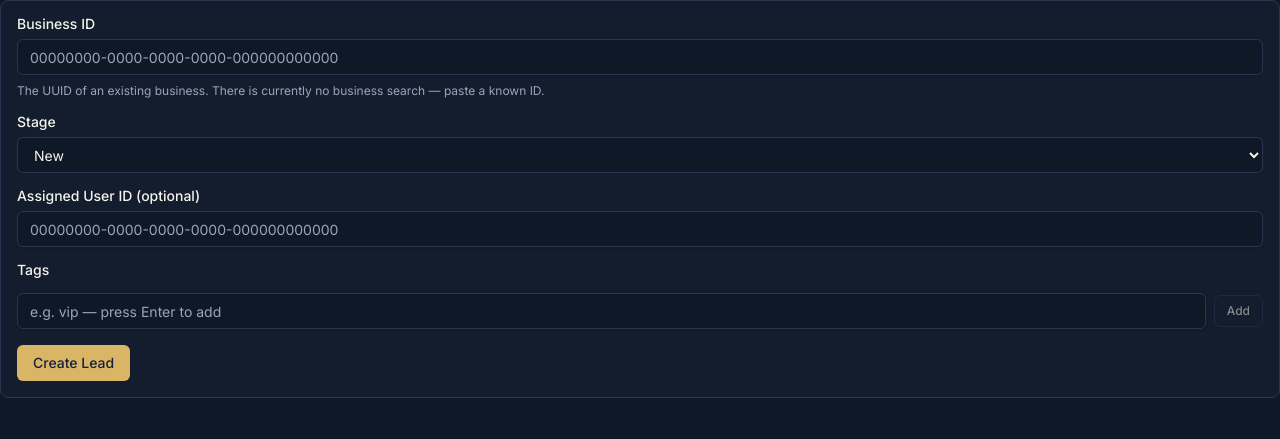
Test case: CreateLeadForm › rejects a non-UUID Business ID
Type "not-a-uuid" into the field labelled "Business ID" at (640, 57), box [17,39,1263,75]
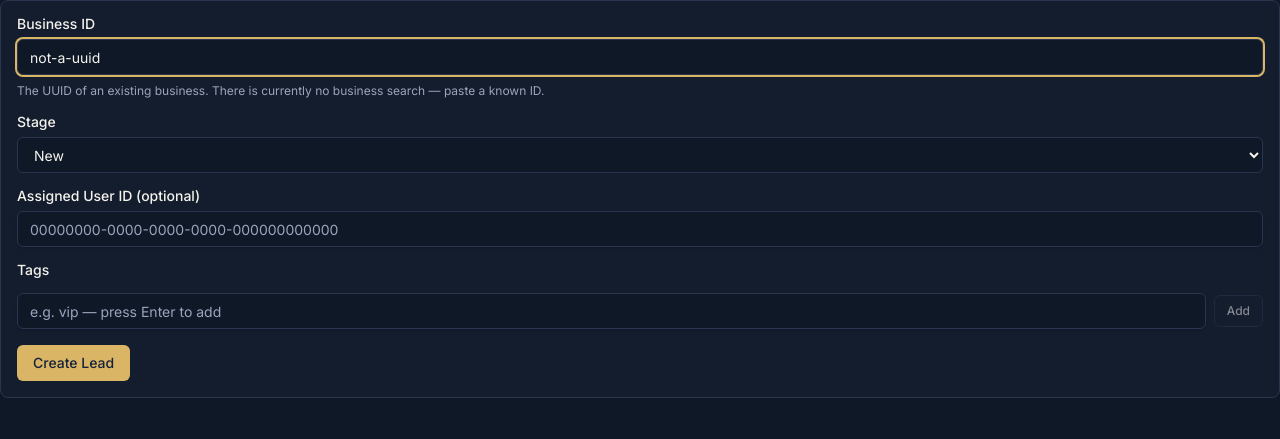
Click the button "Create Lead" at (74, 363), box [17,345,130,381]
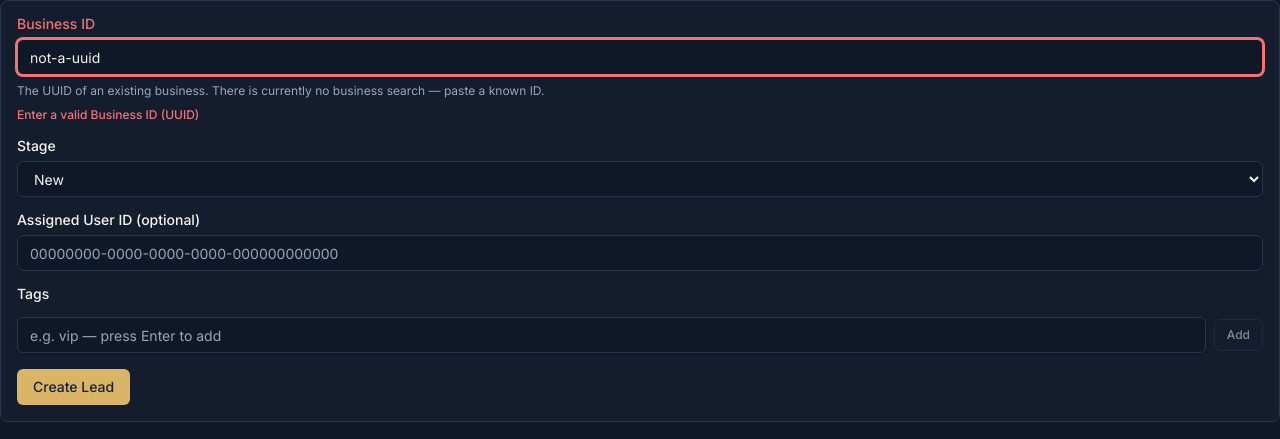
Expected: the text "Enter a valid Business ID (UUID)" is shown, [17,107,199,122]
